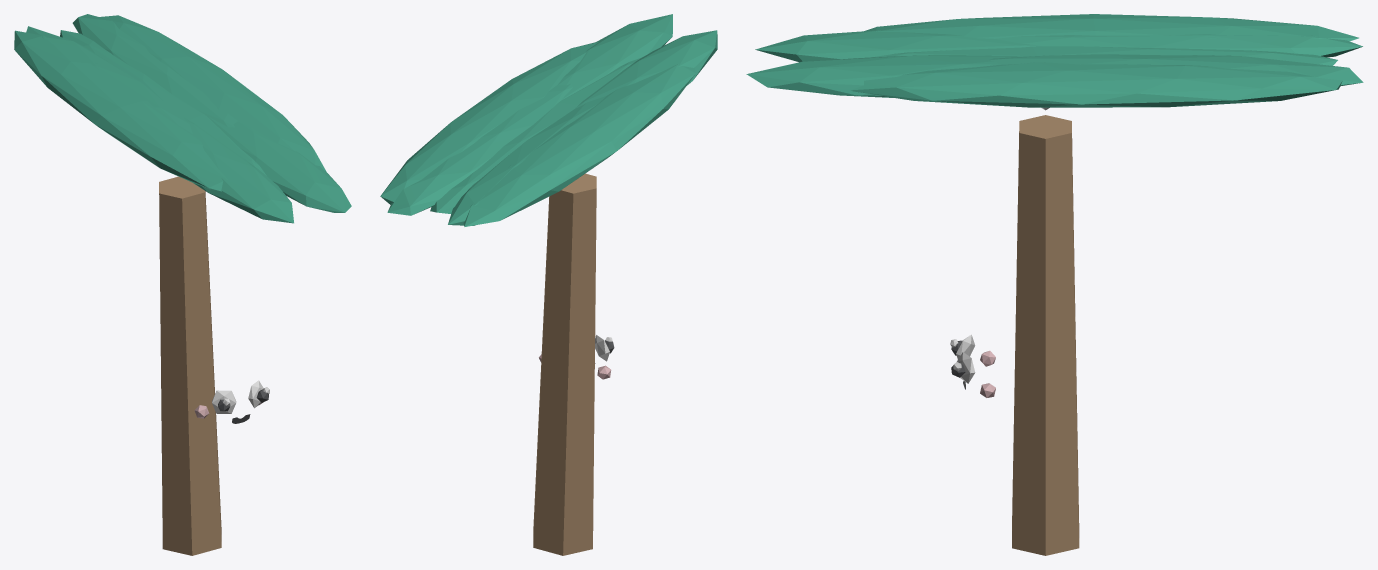
File: howea-forsteriana.glb
The picture shows the model from 3 angles, left to right: view 1: azimuth 30°, elevation 25°; view 2: azimuth 150°, elevation 25°; view 3: azimuth 270°, elevation 25°; orthographic projection. The views are drawn at different scales.
Parts seen in each view (by area): view 1: trunk, frond3, frond0, frond1, frond2, frond6, frond5, frond4; view 2: trunk, frond3, frond0, frond6, frond1, frond2, frond5, frond4; view 3: trunk, frond0, frond3, frond1, frond2, frond4, frond6, frond5.
Boxes of the visible parts, x1,y1,x2,y2 form: trunk: (159,176,221,555); frond3: (14,30,227,191); frond0: (99,15,326,172); frond1: (207,116,351,212); frond2: (184,117,293,223); frond6: (72,14,238,127); frond5: (60,30,266,175); frond4: (26,26,192,133); trunk: (533,173,596,555); frond3: (463,64,695,226); frond0: (380,42,598,204); frond6: (387,83,572,215); frond1: (558,14,672,100); frond2: (575,30,717,108); frond5: (430,57,641,213); frond4: (448,96,605,225); trunk: (1012,115,1079,555); frond0: (850,62,1342,107); frond3: (864,14,1358,41); frond1: (746,55,1028,97); frond2: (755,30,1041,62); frond4: (996,34,1362,57); frond6: (987,54,1363,85); frond5: (870,46,1337,65).
Bounding box in the file's own units: 0.2315 × 0.6301 × 0.7129.
